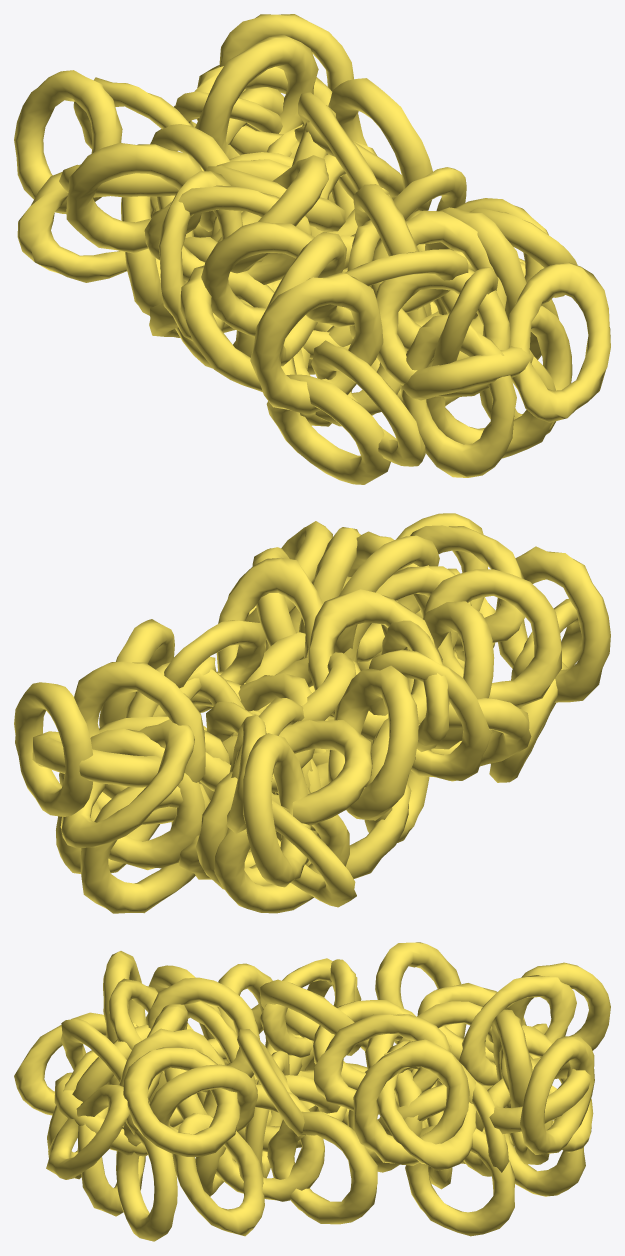
File: OnionRings_Basket.fbx
3 renders of one model, top to bottom at view 1: azimuth 30°, elevation 25°; view 2: azimuth 150°, elevation 25°; view 3: azimuth 270°, elevation 25°, orthographic. The views are drawn at different scales.
Parts seen in each view (by area): view 1: OnionRing_RawBasket; view 2: OnionRing_RawBasket; view 3: OnionRing_RawBasket.
Part boxes in pixels (box(x1,y1,x2,y2)): OnionRing_RawBasket: box(14, 14, 610, 484); OnionRing_RawBasket: box(14, 513, 610, 913); OnionRing_RawBasket: box(14, 942, 610, 1241).
Bounding box in the file's own units: 20.28 × 14.14 × 37.
